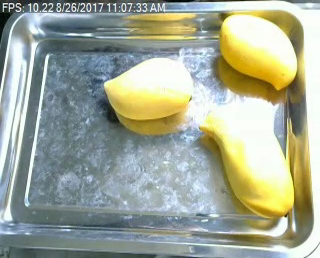Mango: (200, 103, 302, 220), (214, 10, 299, 93), (99, 53, 197, 124)
